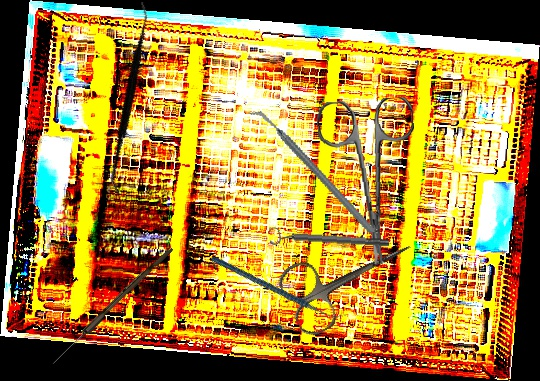Chopper: (248, 84, 376, 259), (209, 218, 348, 357)
Fixation Ring: (269, 225, 390, 254)
Iris Scissors: (273, 215, 428, 340), (315, 96, 424, 268)
Spatula Surgical: (53, 1, 208, 195)
Surgical Spoon: (50, 244, 174, 368)
